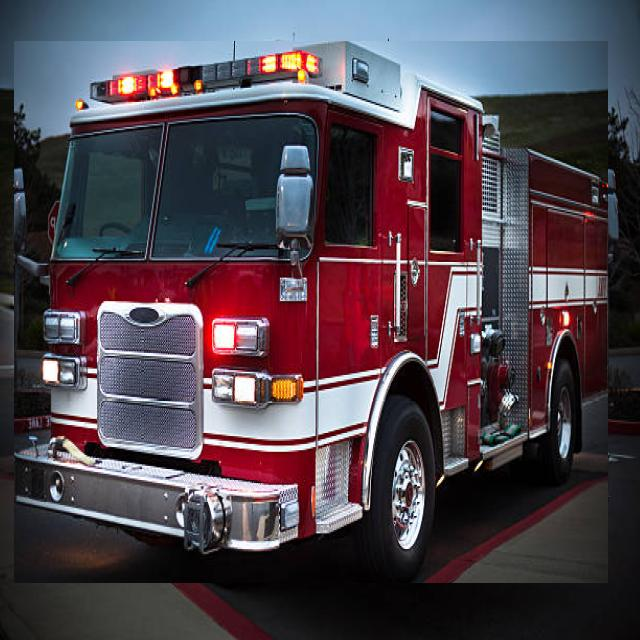emergency: (15, 41, 608, 583)
